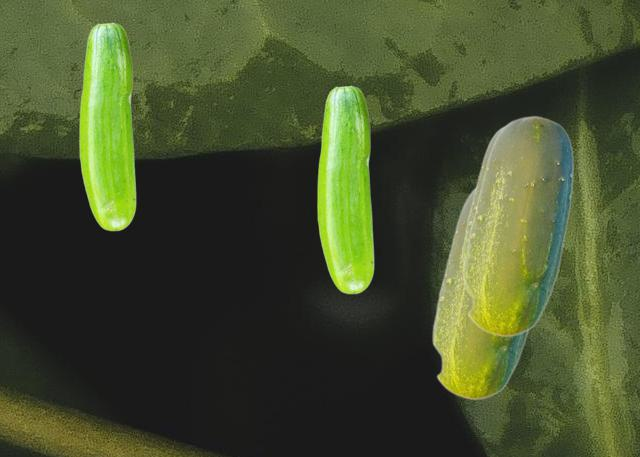cucumber: (462, 115, 572, 336), (431, 187, 529, 399), (79, 22, 135, 230), (317, 85, 373, 293), (461, 126, 502, 296)
